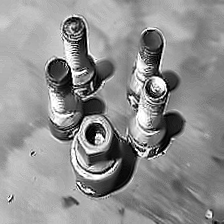tiny_holes: (3, 193, 18, 205), (203, 209, 217, 221), (28, 148, 39, 157)
